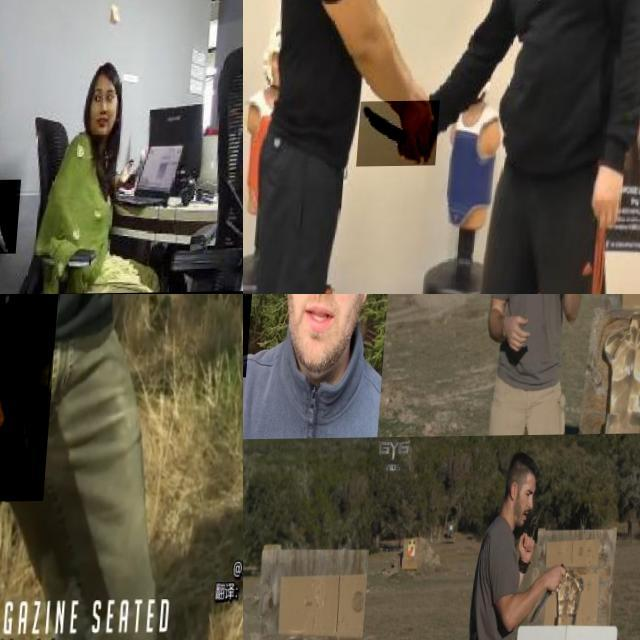-: (243, 294, 313, 397), (363, 101, 446, 168), (532, 563, 572, 625), (0, 180, 29, 255), (243, 502, 259, 605), (561, 294, 583, 339)
gun-knife-thesis - v11 Yolov5 augmented: (0, 294, 80, 503)
